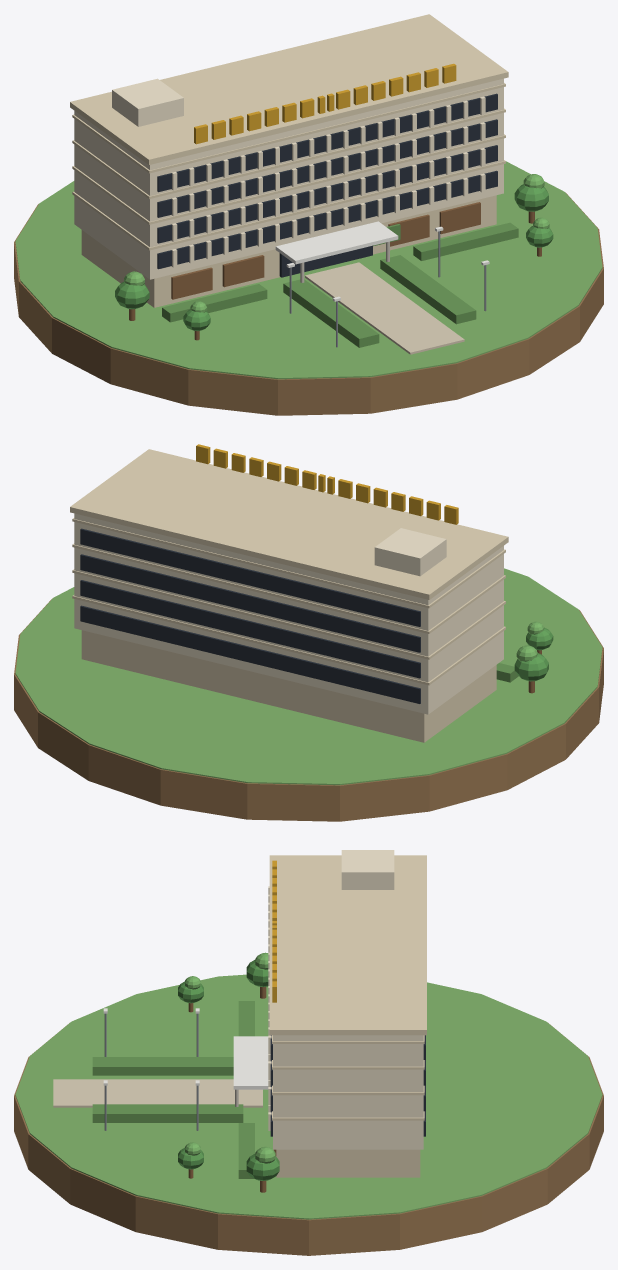
The model's file is mainLibrary.glb.
3 views of the same model, one above another, from view 1: azimuth 30°, elevation 25°; view 2: azimuth 150°, elevation 25°; view 3: azimuth 270°, elevation 25° (orthographic).
Parts seen in each view (by area): view 1: mainLibrary; view 2: mainLibrary; view 3: mainLibrary.
Part boxes in pixels (x1,y1,x2,y2): mainLibrary: (14,14,603,415); mainLibrary: (14,444,603,821); mainLibrary: (14,850,603,1255).
Bounding box in the file's own units: 18 × 6.96 × 18.
